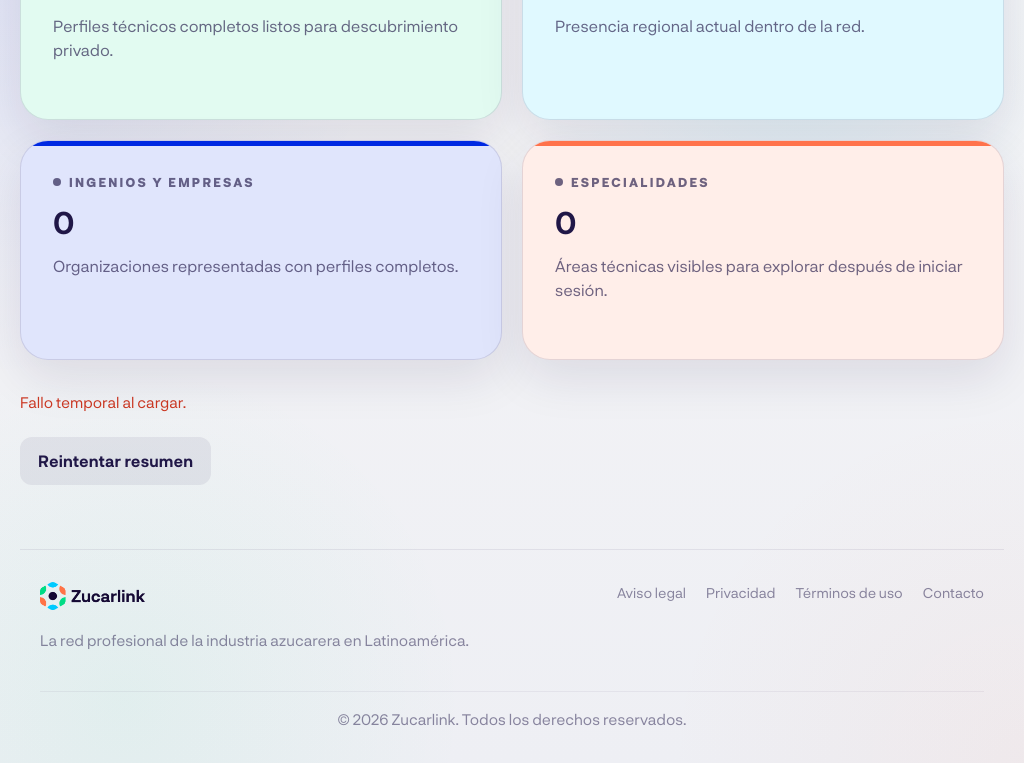
Test: allows retrying the public directory summary after a recoverable error
(page scrolled)
Expected: the text "Fallo temporal al cargar." is shown, [20, 393, 186, 411]
Click the button "Reintentar resumen": (116, 461) [20, 437, 211, 485]
(page scrolled)
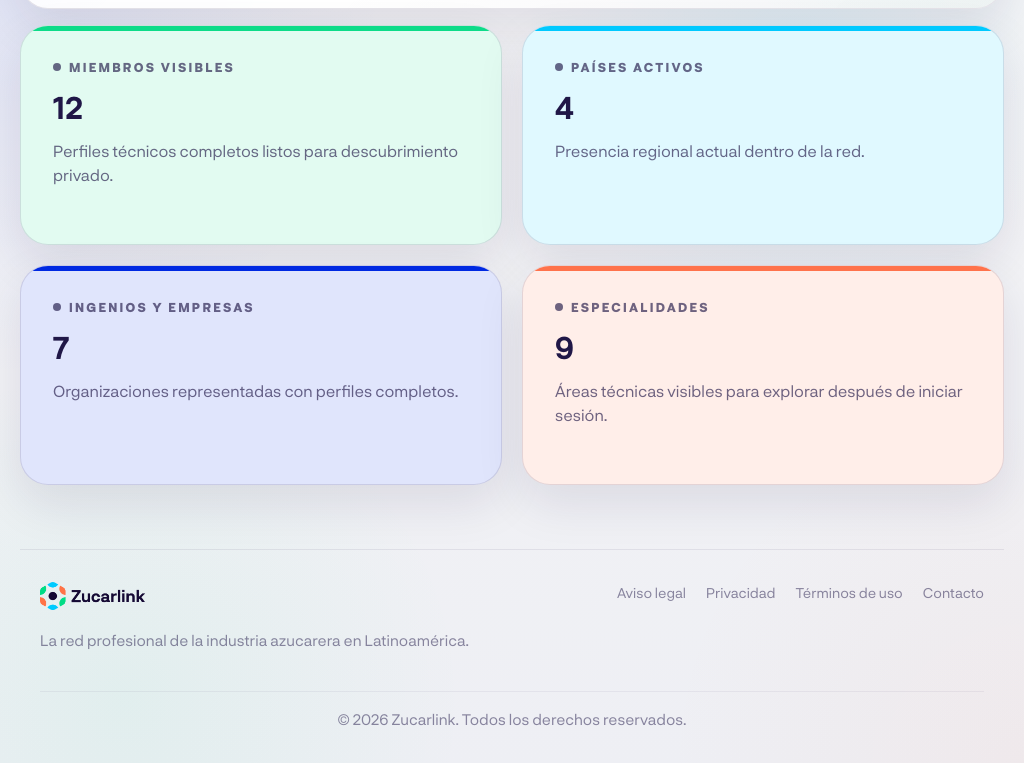
Expected: the heading "12" is shown, [53, 88, 83, 125]
